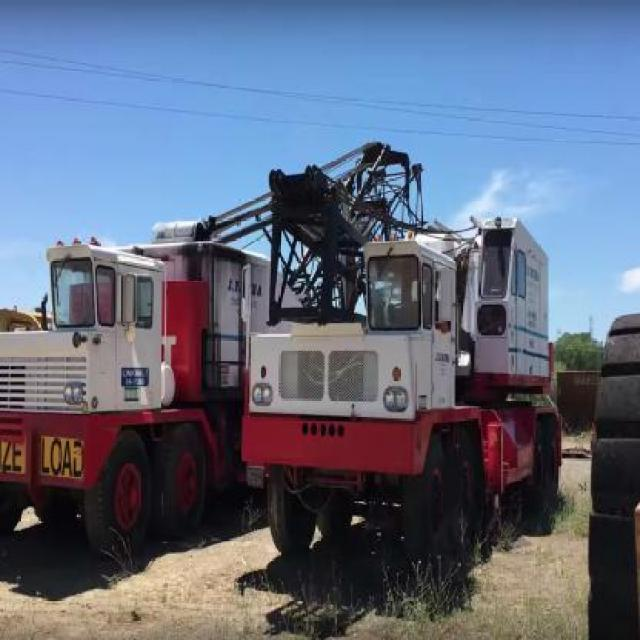Mobile Crane: (246, 216, 562, 570)
